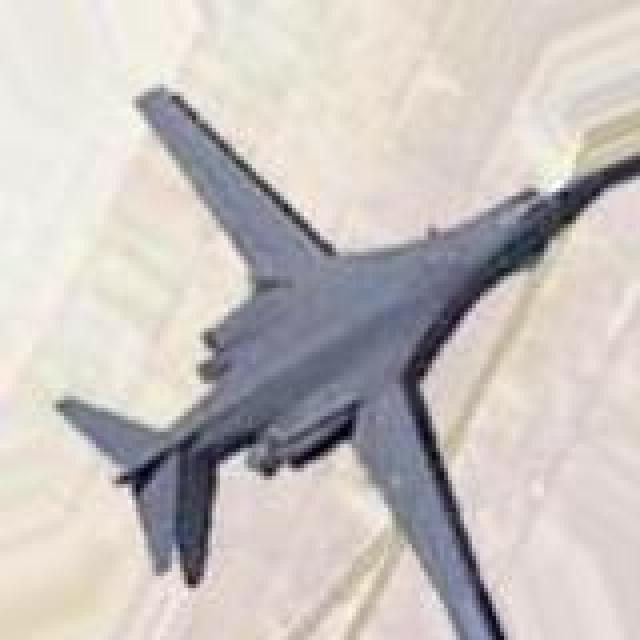B-1_TopDown: (48, 76, 636, 636)
